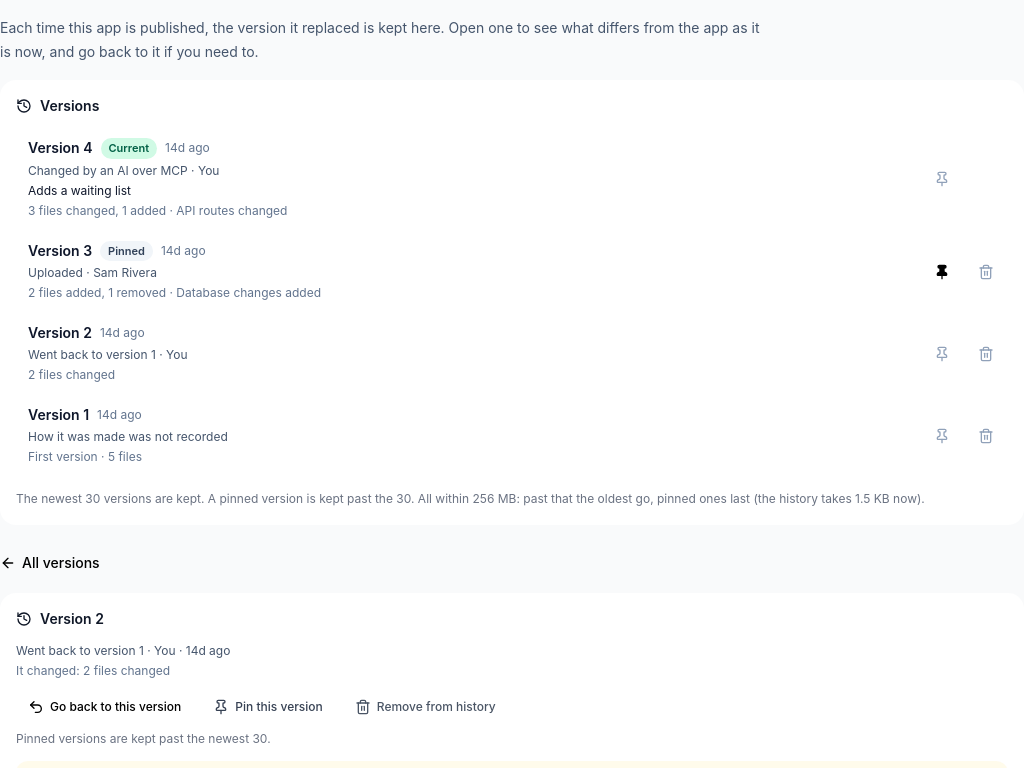
Scenario: going back › names the outside sites each may reach when the two differ in them, and says when what the app asks for goes back
This screenshot has width=1024, height=768.
Earlier steps of the test are not shown.
Click the button "Go back to this version".
click(105, 707)  # box [16,693,193,721]
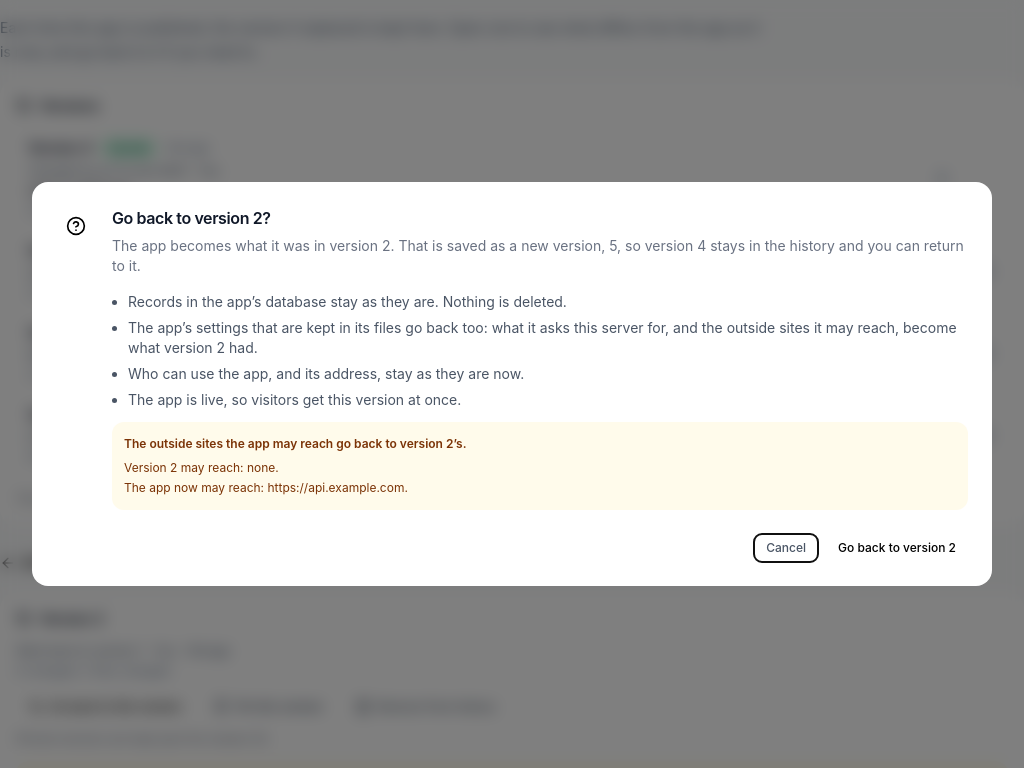
Expected: the element with test id "softn-history-settings-back" shows "Version 2 may reach: none.", [112,422,968,510]
Expected: the element with test id "softn-history-settings-back" shows "The app now may reach: https://api.example.com.", [112,422,968,510]
